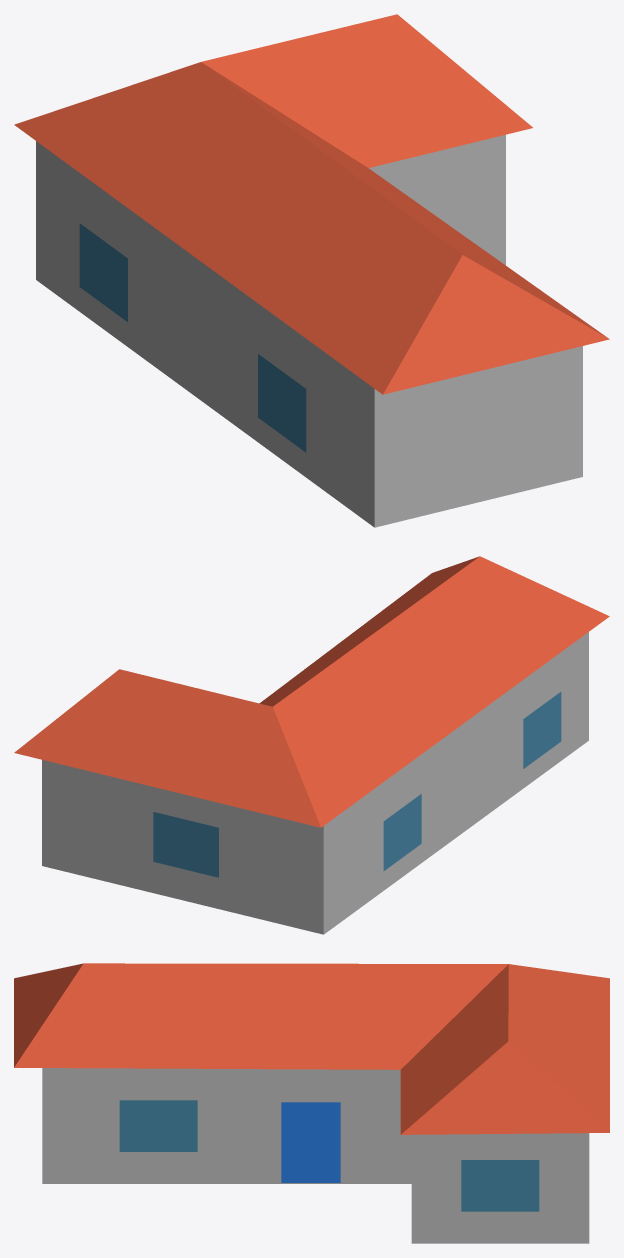
File: house.glb
The picture shows the model from 3 angles, top to bottom: view 1: azimuth 30°, elevation 25°; view 2: azimuth 150°, elevation 25°; view 3: azimuth 270°, elevation 25°; orthographic projection. The views are drawn at different scales.
Visible parts, largest first — view 1: Cube; view 2: Cube; view 3: Cube.
Part boxes in pixels (x1=…): Cube: x1=14, y1=14, x2=609, y2=527; Cube: x1=14, y1=556, x2=609, y2=934; Cube: x1=14, y1=963, x2=609, y2=1243.
Size of the model in its own units: 11.66 by 6.32 by 18.66.
1 material, 1 textured.
